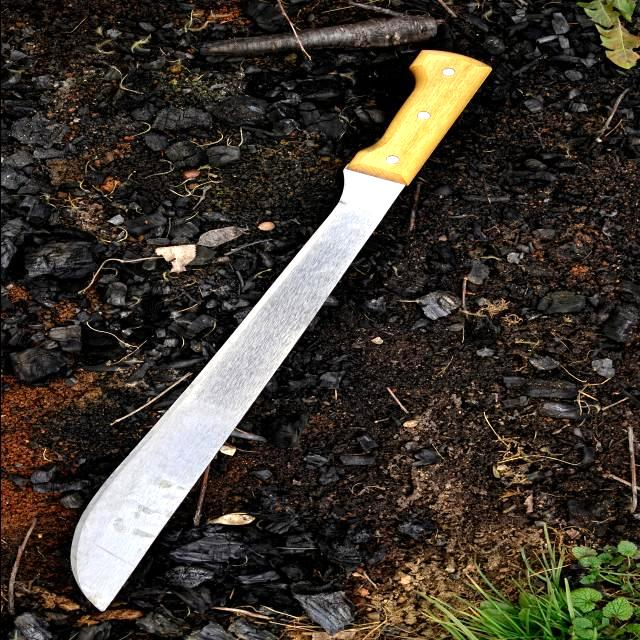long knife: (46, 44, 518, 620)
